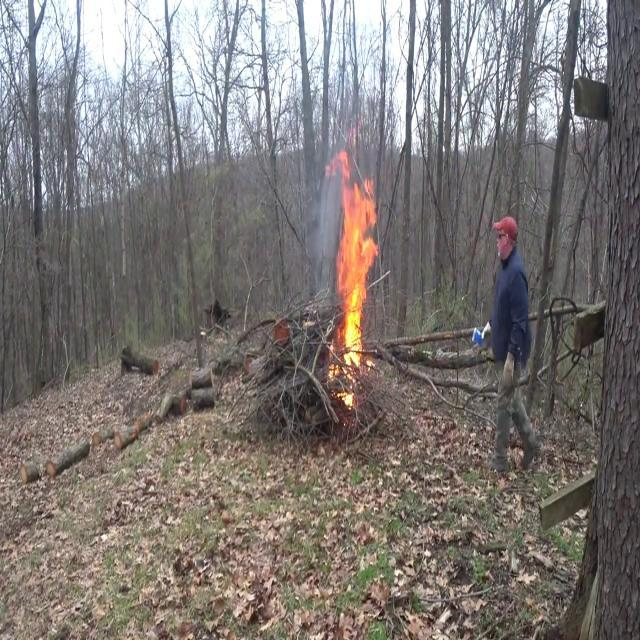Fire: (332, 154, 384, 373), (339, 387, 356, 413)
Smoke: (297, 154, 343, 328)
